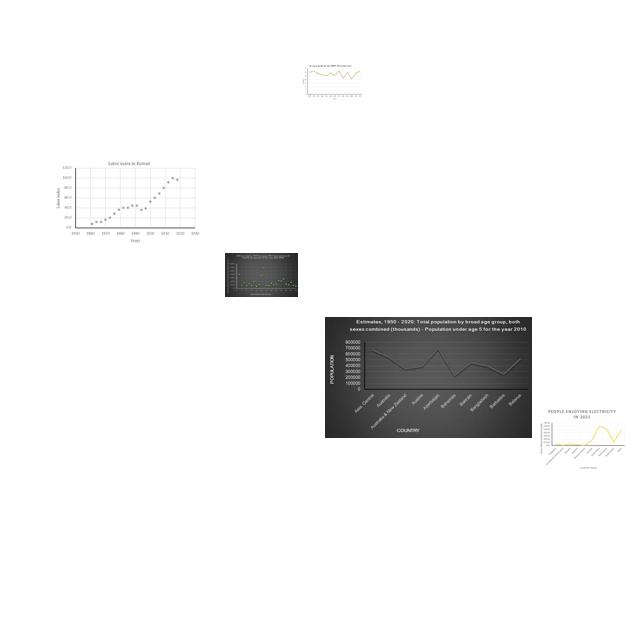Graph: (325, 317, 532, 438), (55, 159, 201, 243), (537, 407, 627, 472), (225, 253, 298, 297), (302, 64, 363, 100)
